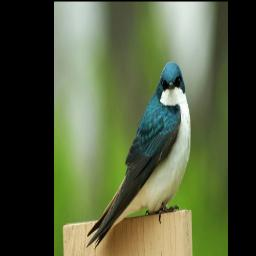Swallow: (85, 60, 192, 251)
